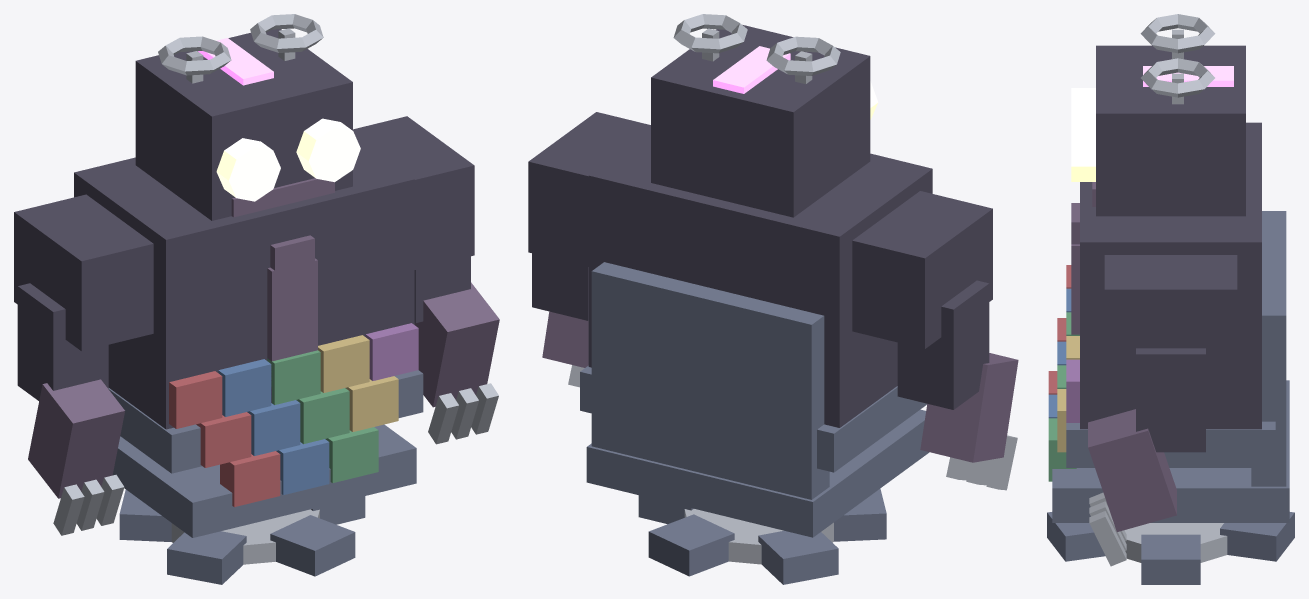
The model's file is boss_director.glb.
3 views of the same model, side by side, from view 1: azimuth 30°, elevation 25°; view 2: azimuth 150°, elevation 25°; view 3: azimuth 270°, elevation 25° (orthographic). The views are drawn at different scales.
Parts seen in each view (by area): view 1: Torso, Head, ShoulderL, Seat, ShoulderR, Forearm-1, Forearm1, UpperArm-1, PlasterTie, ChairLeg4, Arm-1, ChairLeg3 (+30 smaller); view 2: Back, Torso, Head, ShoulderL, Seat, ShoulderR, UpperArm-1, Forearm-1, Arm-1, ChairLeg1, ChairLeg2, UpperArm1 (+8 smaller); view 3: Head, Torso, ShoulderR, Seat, Forearm1, UpperArm1, Back, Arm1, ChairLeg0, ChairLeg1, Base, Horn-1 (+13 smaller).
Part boxes in pixels (<box>): Torso: <box>74,136,414,429</box>; Head: <box>135,29,352,220</box>; ShoulderL: <box>14,194,153,351</box>; Seat: <box>112,424,416,537</box>; ShoulderR: <box>353,116,474,269</box>; Forearm-1: <box>28,379,124,498</box>; Forearm1: <box>414,282,499,407</box>; UpperArm-1: <box>17,283,108,400</box>; PlasterTie: <box>267,258,317,402</box>; ChairLeg4: <box>270,515,355,576</box>; Arm-1: <box>108,388,201,473</box>; ChairLeg3: <box>167,531,246,584</box>; Back: <box>591,262,829,499</box>; Torso: <box>588,130,932,427</box>; Head: <box>651,25,870,217</box>; ShoulderL: <box>852,191,992,348</box>; Seat: <box>586,409,929,537</box>; ShoulderR: <box>528,112,650,266</box>; UpperArm-1: <box>897,280,989,409</box>; Forearm-1: <box>920,353,1018,462</box>; Arm-1: <box>817,386,927,472</box>; ChairLeg1: <box>648,514,734,576</box>; ChairLeg2: <box>758,530,838,584</box>; UpperArm1: <box>532,253,588,320</box>; Head: <box>1096,45,1245,216</box>; Torso: <box>1080,122,1261,429</box>; ShoulderR: <box>1104,255,1237,378</box>; Seat: <box>1052,380,1289,522</box>; Forearm1: <box>1088,409,1176,531</box>; UpperArm1: <box>1136,348,1205,452</box>; Back: <box>1251,211,1286,486</box>; Arm1: <box>1066,421,1275,467</box>; ChairLeg0: <box>1141,534,1200,584</box>; ChairLeg1: <box>1220,512,1294,561</box>; Base: <box>1124,523,1227,562</box>; Horn-1: <box>1140,14,1215,53</box>.
Bounding box in the file's own units: 2.78 × 3.06 × 1.42.
